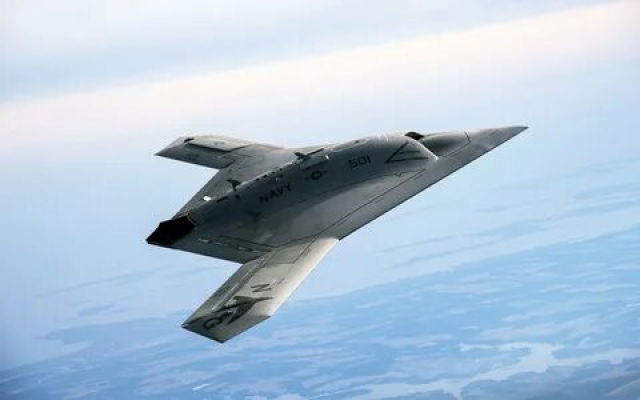military drone: (144, 125, 530, 343)
